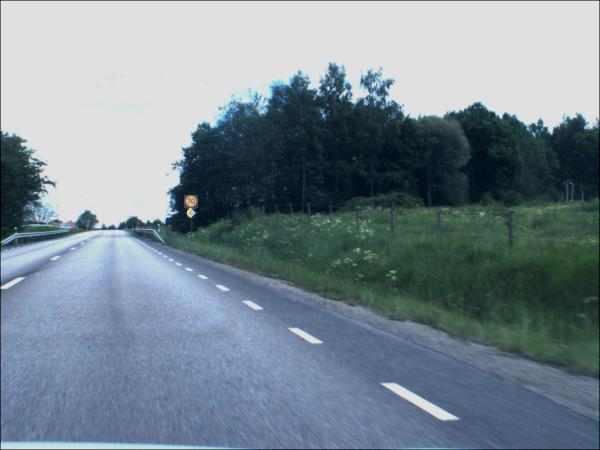70_SIGN: (185, 196, 200, 210)
PRIORITY_ROAD: (189, 209, 199, 220)
